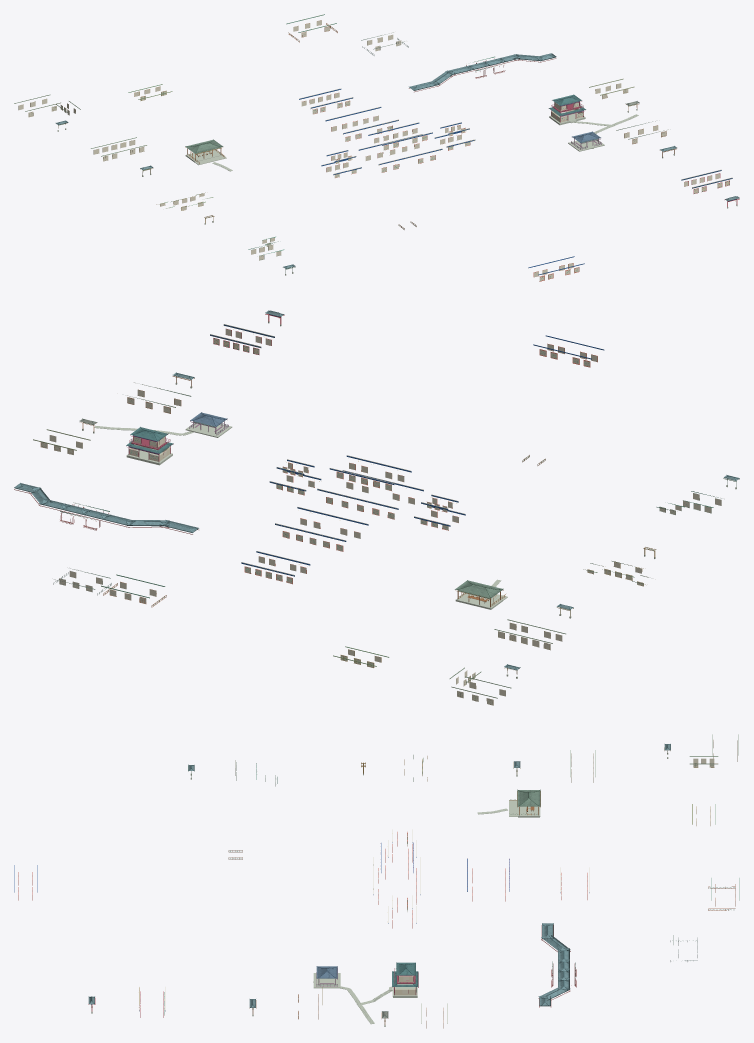
File: reference-public_models_sunwen-architecture-low.glb
3 views of the same model, one above another, from view 1: azimuth 30°, elevation 25°; view 2: azimuth 150°, elevation 25°; view 3: azimuth 270°, elevation 25° (orthographic). The views are drawn at different scales.
Parts seen in each view (by area): view 1: Sunwen18_daguanlou_paper.001, Sunwen18_daguanlou_blue.001, Sunwen18_Gallery_roof.001; view 2: Sunwen18_daguanlou_paper.001, Sunwen18_Gallery_roof.001, Sunwen18_daguanlou_blue.001; view 3: Sunwen18_Gallery_roof.001, Sunwen18_zilingzhou_stone.001, Sunwen18_jiayintang_stone.001.
Part boxes in pixels (x1,y1,x2,y2): Sunwen18_daguanlou_paper.001: [299, 88, 474, 177]; Sunwen18_daguanlou_blue.001: [299, 89, 475, 174]; Sunwen18_Gallery_roof.001: [409, 53, 556, 90]; Sunwen18_daguanlou_paper.001: [241, 455, 465, 583]; Sunwen18_Gallery_roof.001: [14, 483, 198, 532]; Sunwen18_daguanlou_blue.001: [241, 456, 465, 576]; Sunwen18_Gallery_roof.001: [539, 923, 570, 1006]; Sunwen18_zilingzhou_stone.001: [313, 973, 374, 1024]; Sunwen18_jiayintang_stone.001: [477, 800, 540, 817].
Size of the model in its own units: 249 by 14.46 by 270.
96 materials, 20 textured.
